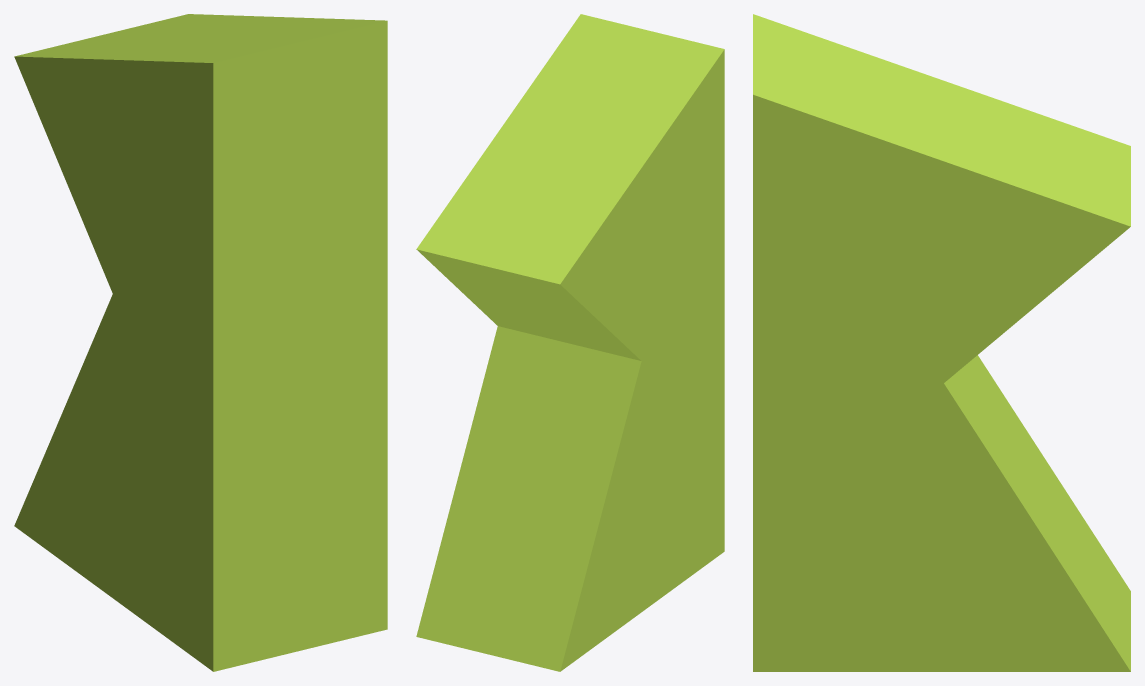
The model's file is knife_stand_convex.fbx.
3 views of the same model, side by side, from view 1: azimuth 30°, elevation 25°; view 2: azimuth 150°, elevation 25°; view 3: azimuth 270°, elevation 25° (orthographic). The views are drawn at different scales.
Visible parts, largest first — view 1: knife_stand_convex, knife_stand_convex.001; view 2: knife_stand_convex.001, knife_stand_convex; view 3: knife_stand_convex, knife_stand_convex.001.
Boxes of the visible parts, <box> form: knife_stand_convex: <box>14,14,387,367</box>; knife_stand_convex.001: <box>14,294,387,671</box>; knife_stand_convex.001: <box>416,300,724,671</box>; knife_stand_convex: <box>416,14,724,360</box>; knife_stand_convex: <box>753,14,1130,383</box>; knife_stand_convex.001: <box>753,355,1130,671</box>.
Size of the model in its own units: 2 by 3.96 by 6.67.
